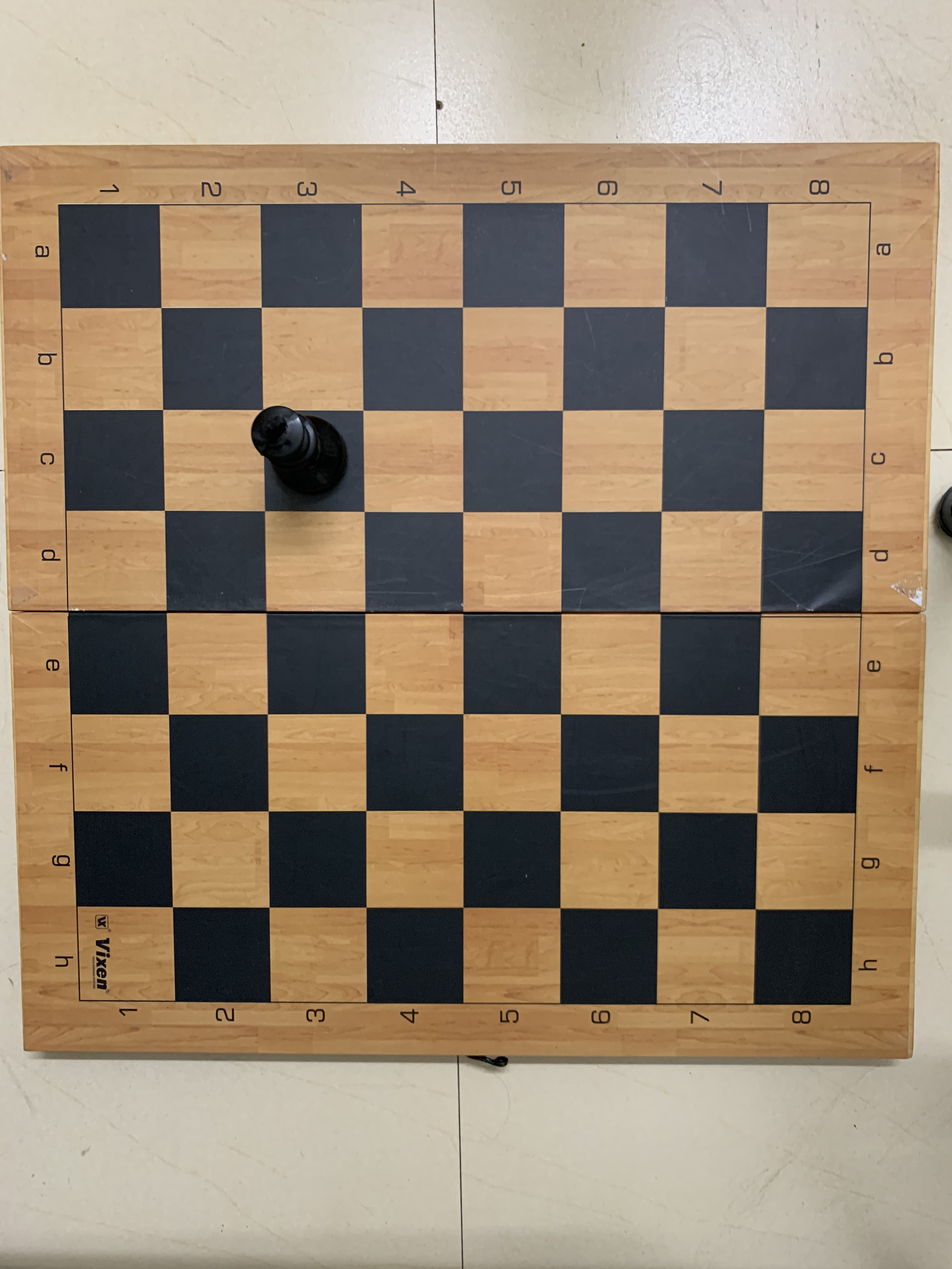black_king: (247, 405, 368, 513)
